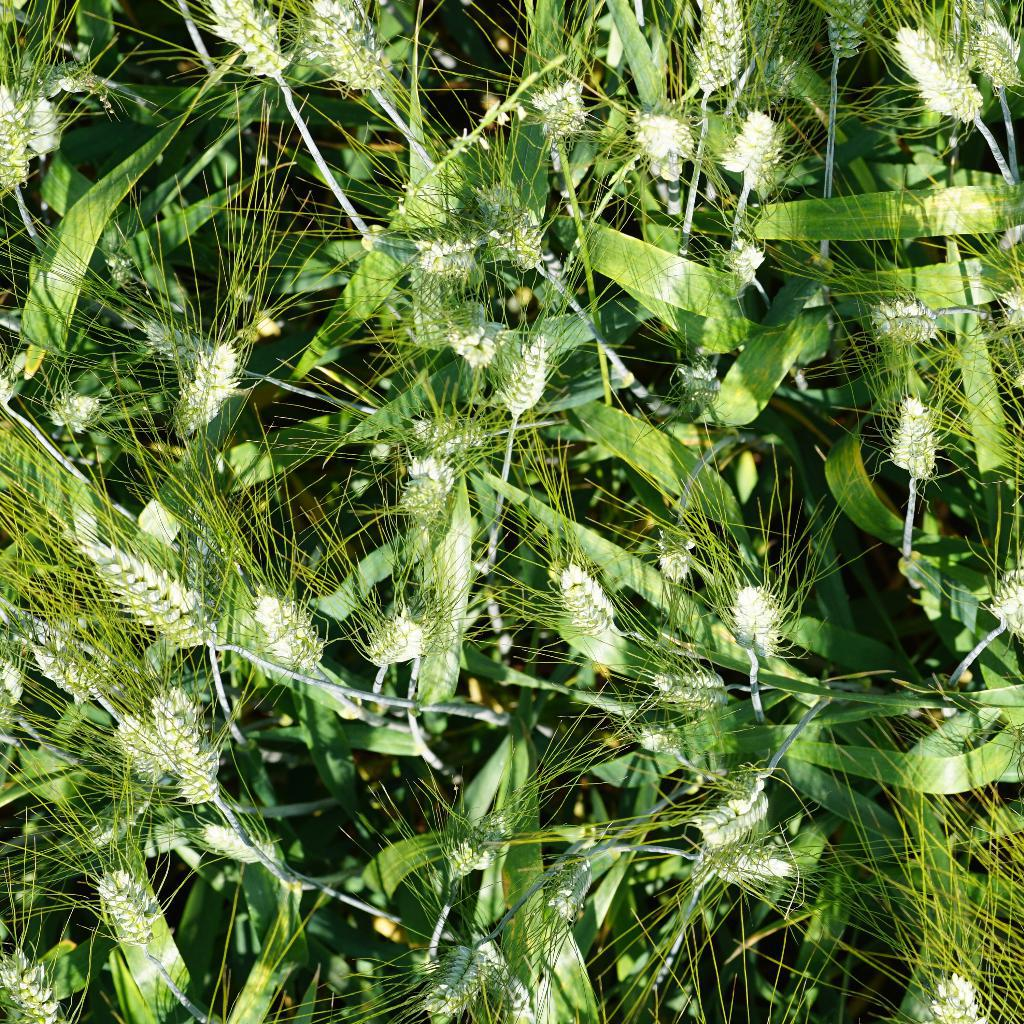0-0: (75, 515, 230, 666), (468, 313, 565, 436), (892, 14, 987, 135), (526, 550, 636, 649), (79, 864, 183, 957), (669, 759, 788, 840), (156, 690, 230, 815), (305, 0, 389, 107), (194, 0, 291, 88), (683, 0, 761, 107), (0, 930, 88, 1024), (455, 929, 542, 1024), (250, 583, 332, 683), (477, 174, 559, 273), (130, 307, 264, 367), (527, 845, 617, 933), (714, 561, 787, 665), (681, 832, 796, 894), (418, 926, 490, 1024), (168, 333, 235, 437), (624, 96, 698, 190), (623, 660, 732, 721), (959, 0, 1024, 98), (104, 703, 174, 791), (727, 47, 809, 121), (30, 623, 111, 697), (882, 391, 948, 481), (443, 802, 518, 879), (408, 219, 475, 303), (198, 814, 303, 867), (918, 968, 1015, 1024), (522, 68, 593, 144), (717, 103, 780, 186), (808, 0, 878, 73), (393, 449, 459, 526), (355, 608, 429, 673), (661, 345, 728, 415), (47, 52, 132, 106), (76, 789, 151, 850), (735, 0, 800, 69), (870, 287, 948, 343), (621, 707, 695, 765), (0, 83, 36, 200), (440, 309, 501, 377), (712, 228, 778, 288), (647, 520, 706, 587), (47, 380, 107, 444), (411, 413, 482, 466), (984, 558, 1024, 634), (99, 237, 137, 295)
